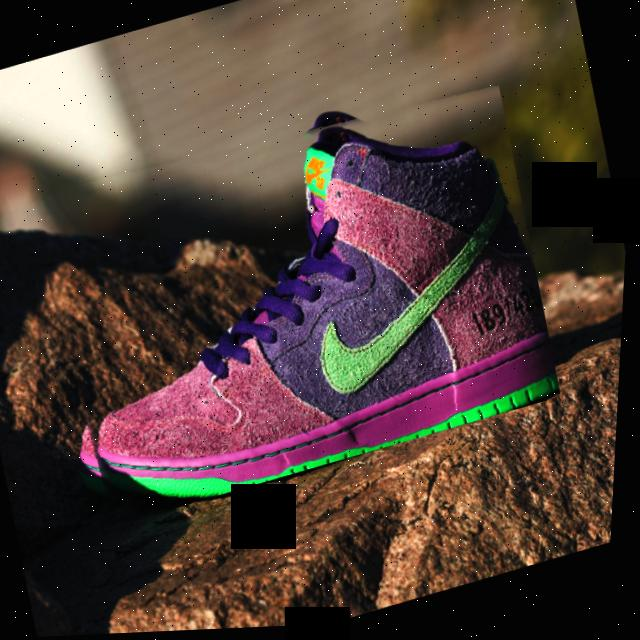shoe: (13, 63, 579, 536)
